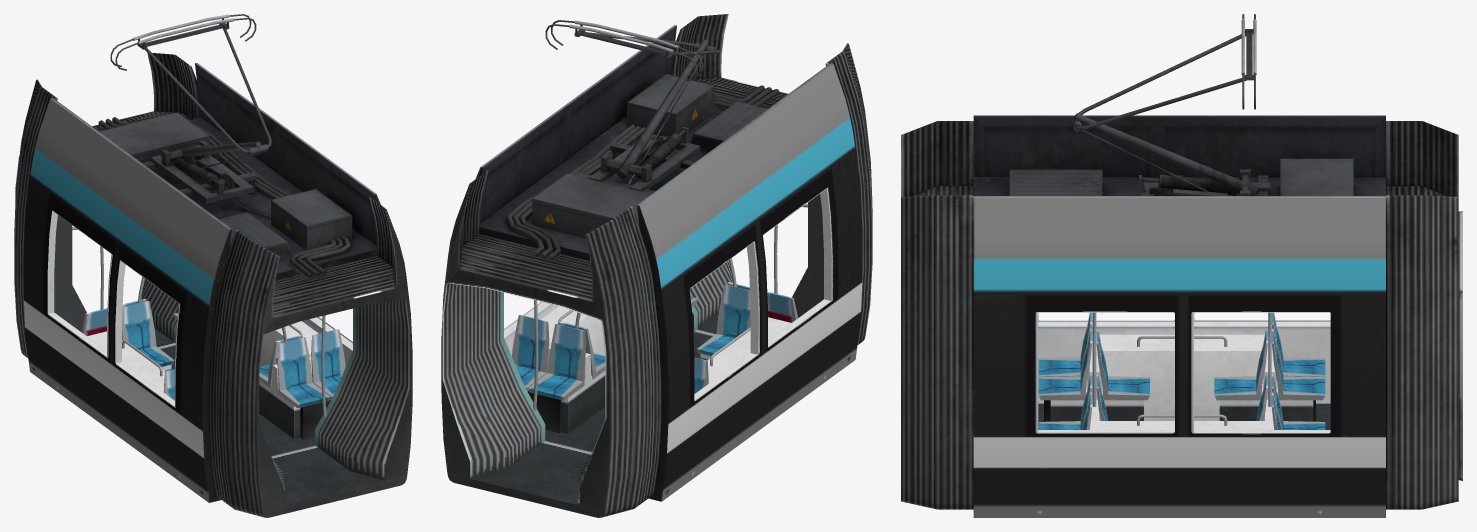
File: urbosc.obj
The picture shows the model from 3 angles, left to right: view 1: azimuth 30°, elevation 25°; view 2: azimuth 150°, elevation 25°; view 3: azimuth 270°, elevation 25°; orthographic projection. The views are drawn at different scales.
Parts seen in each view (by area): view 1: body_5_lod0, int_5_lod0; view 2: body_5_lod0, int_5_lod0; view 3: body_5_lod0, int_5_lod0.
Boxes of the visible parts, box(x1,y1,x2,y2) form: body_5_lod0: box(14, 14, 412, 517); int_5_lod0: box(15, 156, 409, 504); body_5_lod0: box(441, 14, 872, 517); int_5_lod0: box(442, 187, 833, 504); body_5_lod0: box(901, 14, 1458, 517); int_5_lod0: box(1035, 211, 1462, 480).
Size of the model in its own units: 2.65 by 4.62 by 5.59.
Materials: 2 (2 with a texture image).
